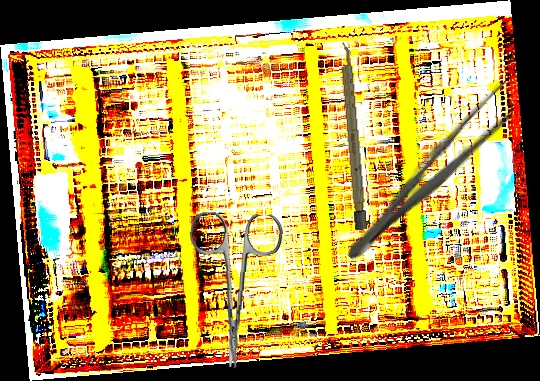Dressing Forceps: (336, 75, 529, 272)
Iris Scissors: (182, 211, 284, 370)
Scalpel Handle: (338, 41, 368, 231)
